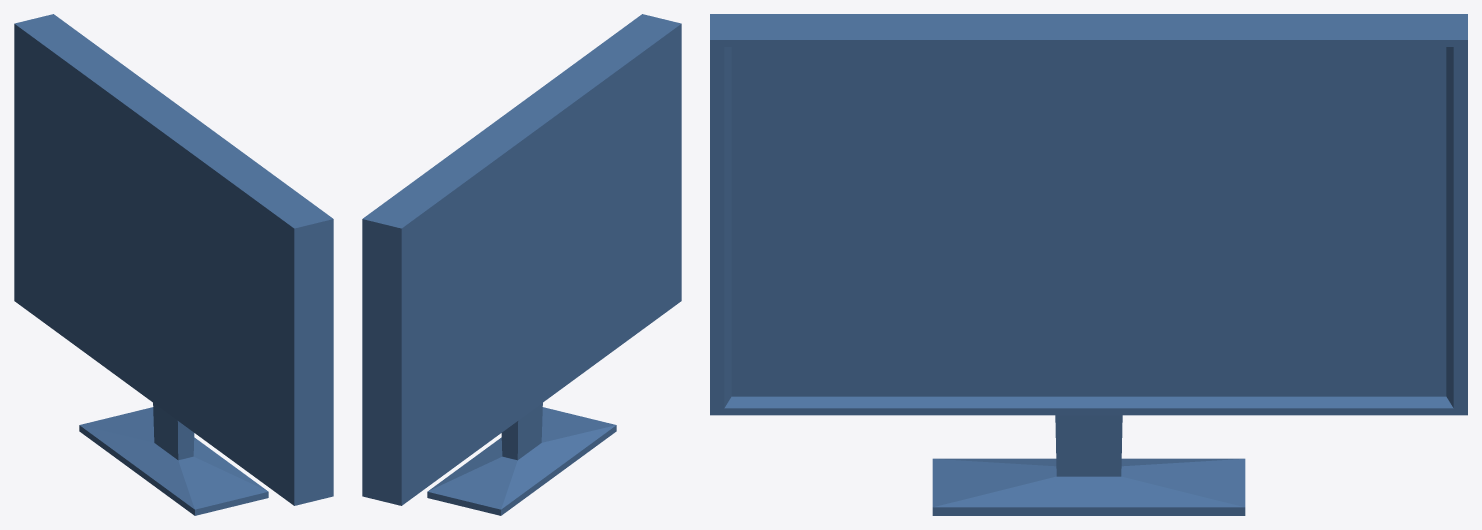
3 renders of one model, left to right at view 1: azimuth 30°, elevation 25°; view 2: azimuth 150°, elevation 25°; view 3: azimuth 270°, elevation 25°, orthographic. The views are drawn at different scales.
Parts seen in each view (by area): view 1: tv; view 2: tv; view 3: tv.
Part boxes in pixels (x1,y1,x2,y2): tv: [14, 14, 333, 515]; tv: [362, 14, 681, 515]; tv: [710, 14, 1467, 515].
Bounding box in the file's own units: 35.4 × 157 × 233.
